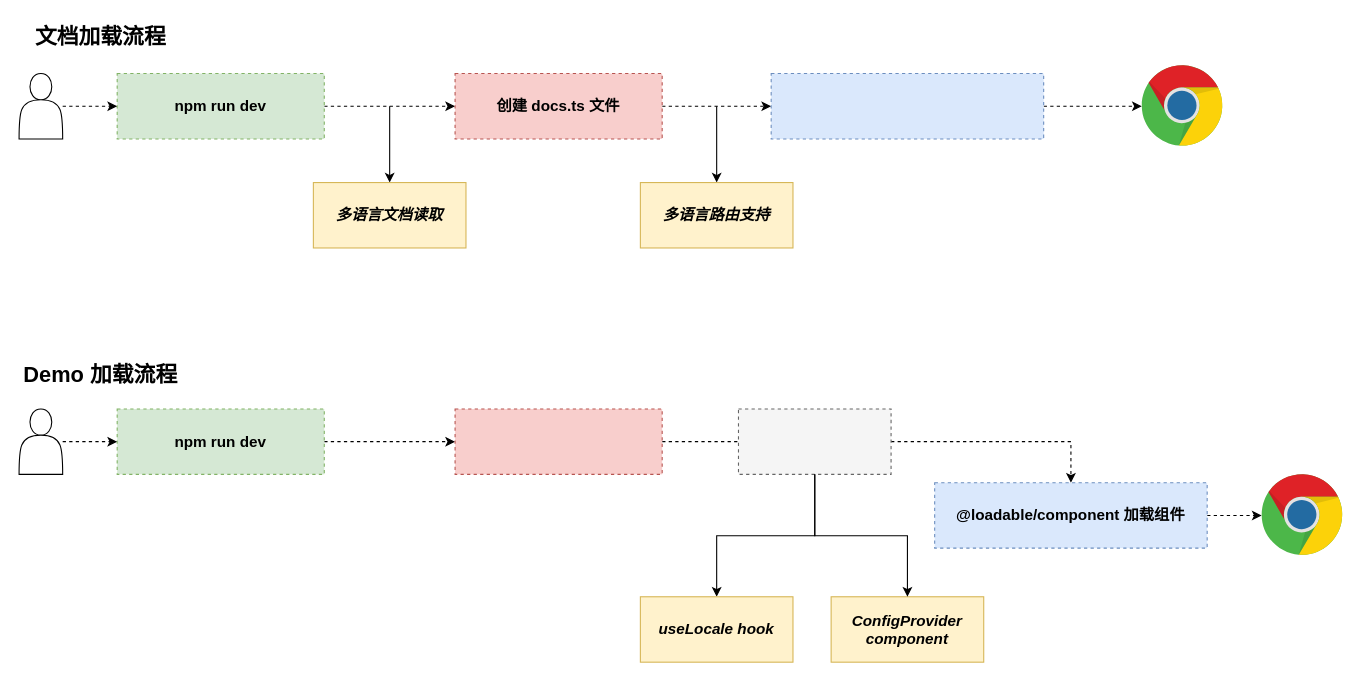
This 1363x681 diagram has some shape labels left out. The shapes that lost their labels are listed below. From the top down, each one's centre as x and y in pixels, then its label:
At (x=907, y=105): "react-markdown 加载 md 文件".
At (x=558, y=441): "import demo.tsx".
At (x=814, y=441): "router".
